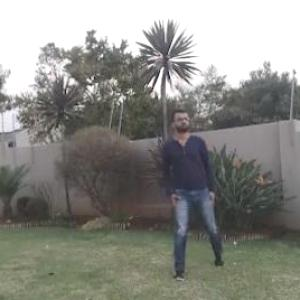follow: (160, 101, 219, 281)
